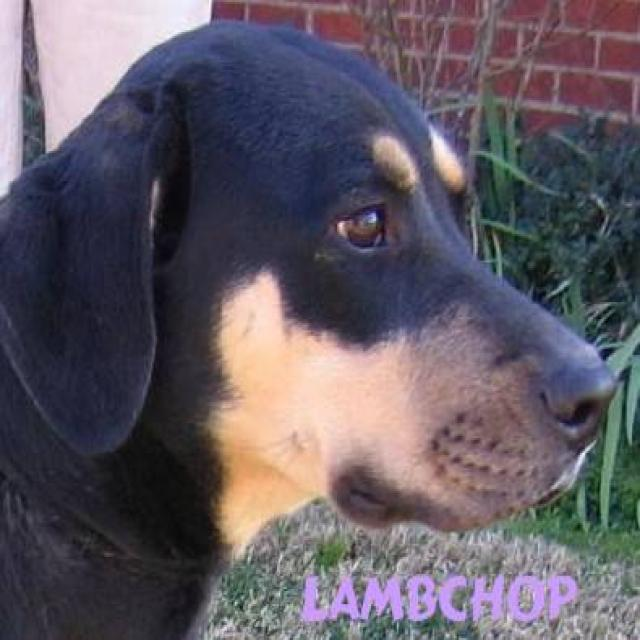dog: (0, 17, 617, 638)
